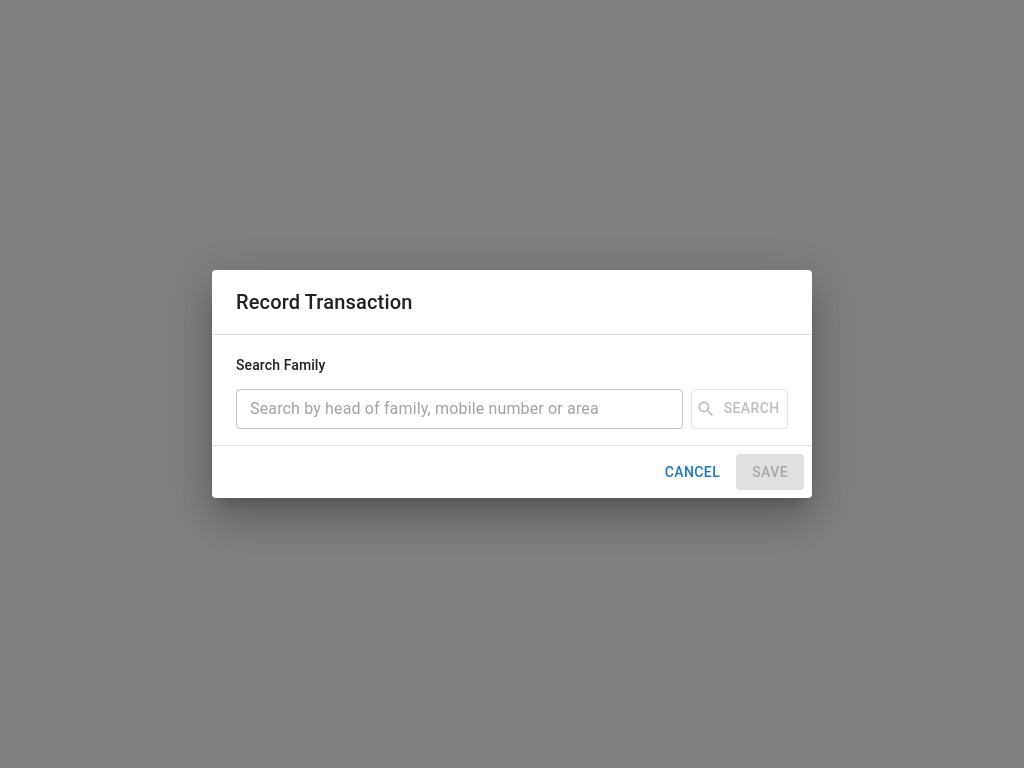
Test case: RecordTransactionDialog › search-then-create: finds a family by name before showing the payment fields
Expected: the field labelled "amount" is not shown
Type "Ramesh Agrawal" into the field with placeholder "Search by head of family, mobile number or area".
click(460, 409); type("Ramesh Agrawal")  # box 236,389 -> 683,429
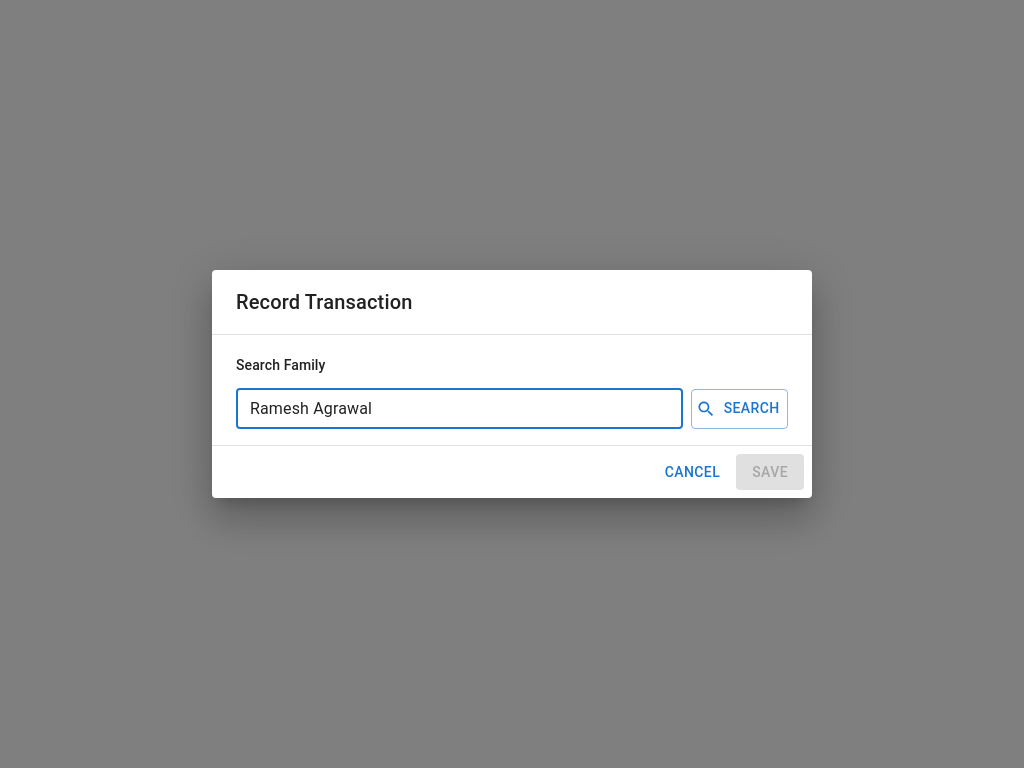
Click the button "Search".
click(740, 409)  # box 691,389 -> 788,429
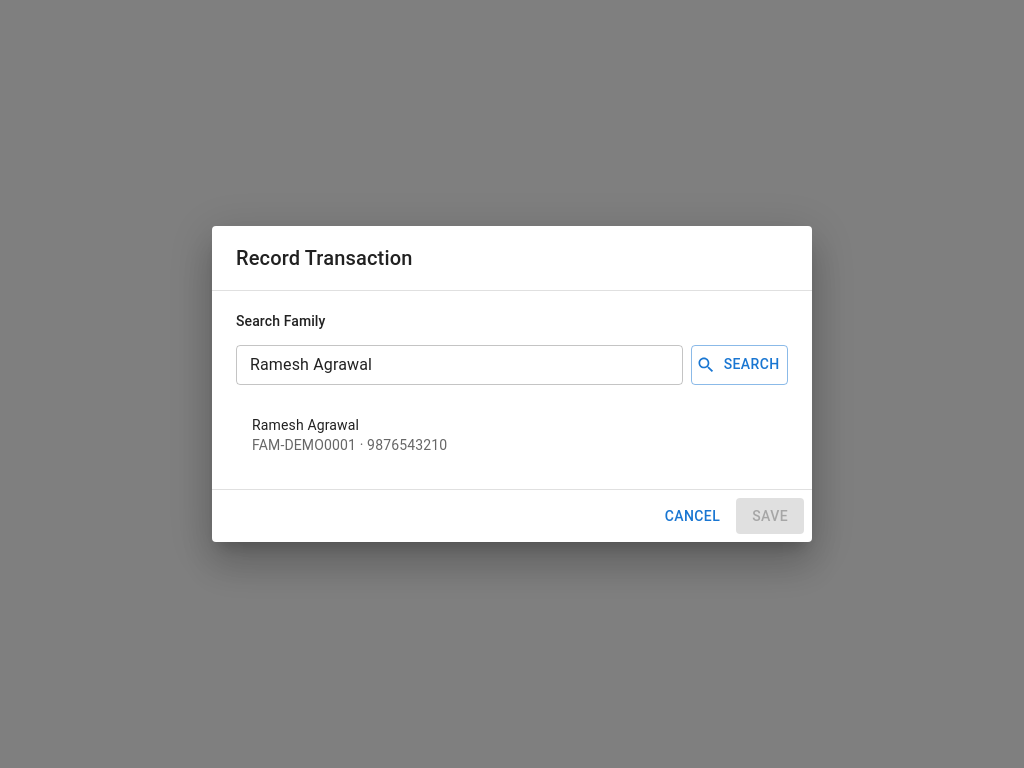
Click the text "Ramesh Agrawal".
click(306, 425)  # box 252,417 -> 359,433
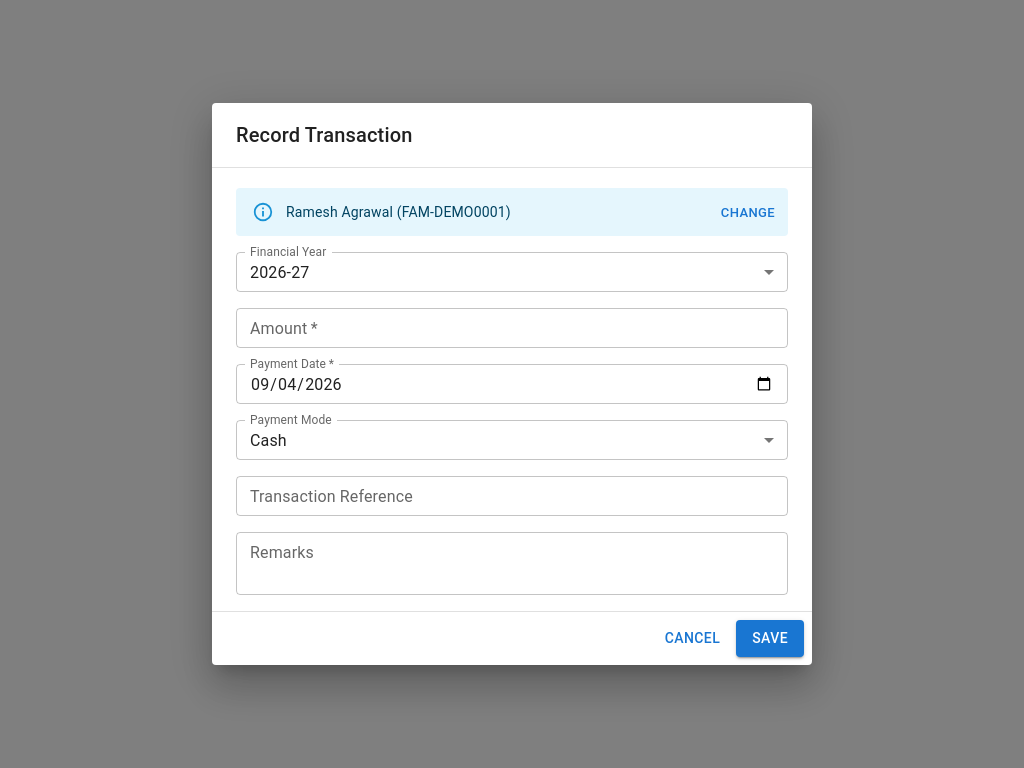
Result: the number field labelled "Amount *" is shown at 236,308 -> 788,348
